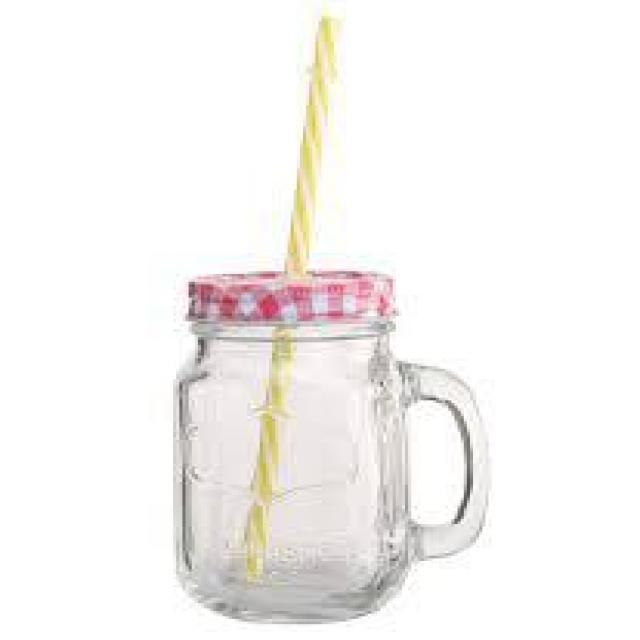glass: (164, 264, 495, 626)
